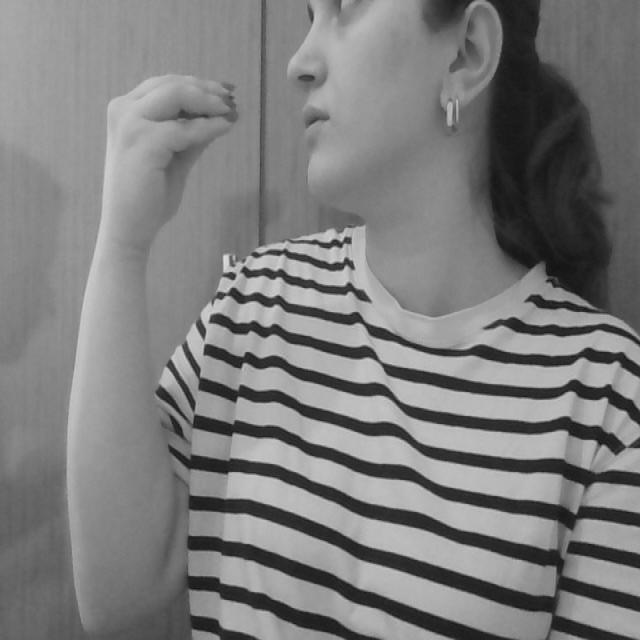Yemek: (116, 73, 339, 174)
